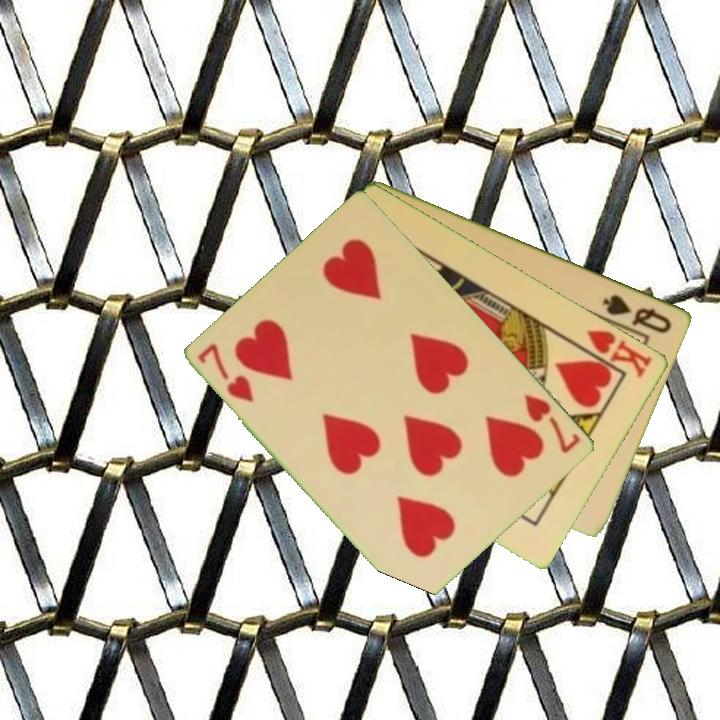7h: (520, 390, 584, 457), (194, 339, 258, 406)
Kh: (572, 326, 656, 381)
Qs: (600, 290, 675, 336)
